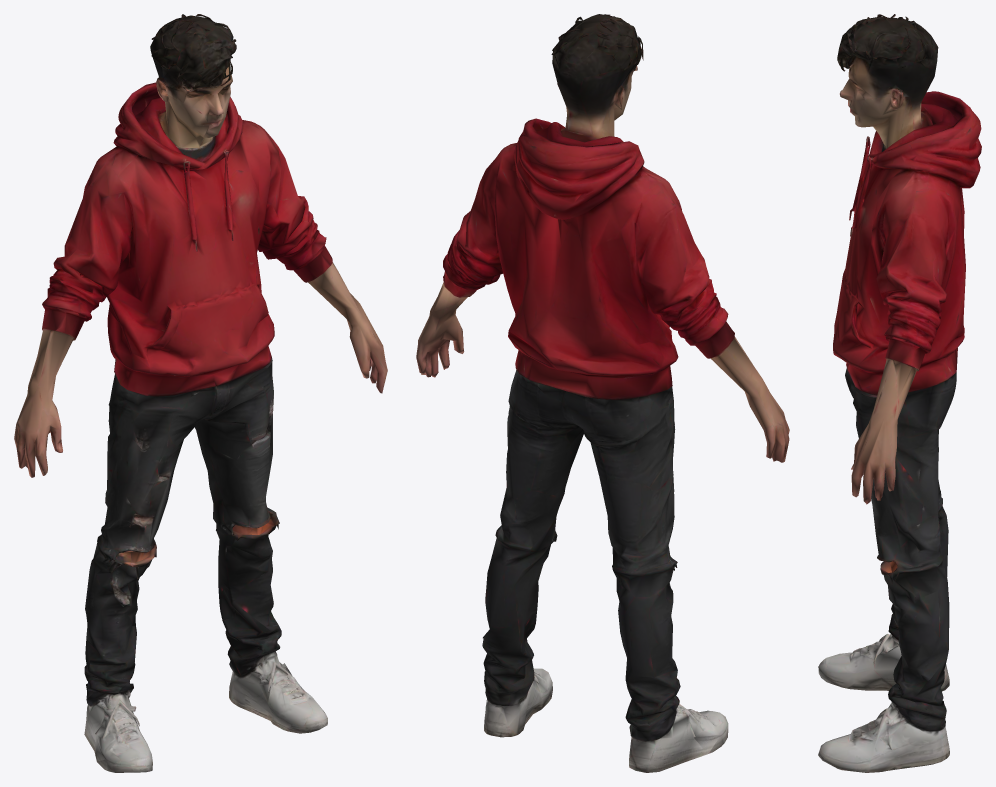
3 views of the same model, side by side, from view 1: azimuth 30°, elevation 25°; view 2: azimuth 150°, elevation 25°; view 3: azimuth 270°, elevation 25° (orthographic).
Parts seen in each view (by area): view 1: node_0; view 2: node_0; view 3: node_0.
Part boxes in pixels (bbox=[...]): node_0: bbox=[14, 14, 387, 772]; node_0: bbox=[416, 14, 789, 772]; node_0: bbox=[818, 14, 981, 772].
Bounding box in the file's own units: 0.6126 × 1.15 × 0.2417.
1 material, 1 textured.
